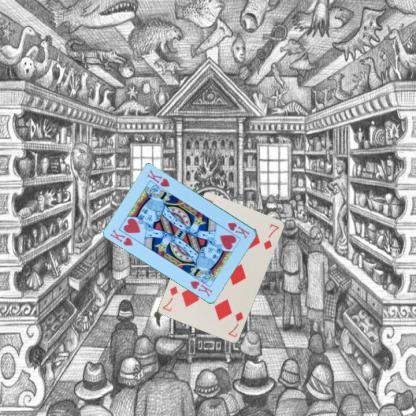7d: (226, 309, 244, 339)
Kh: (108, 226, 134, 247), (226, 219, 250, 240)
